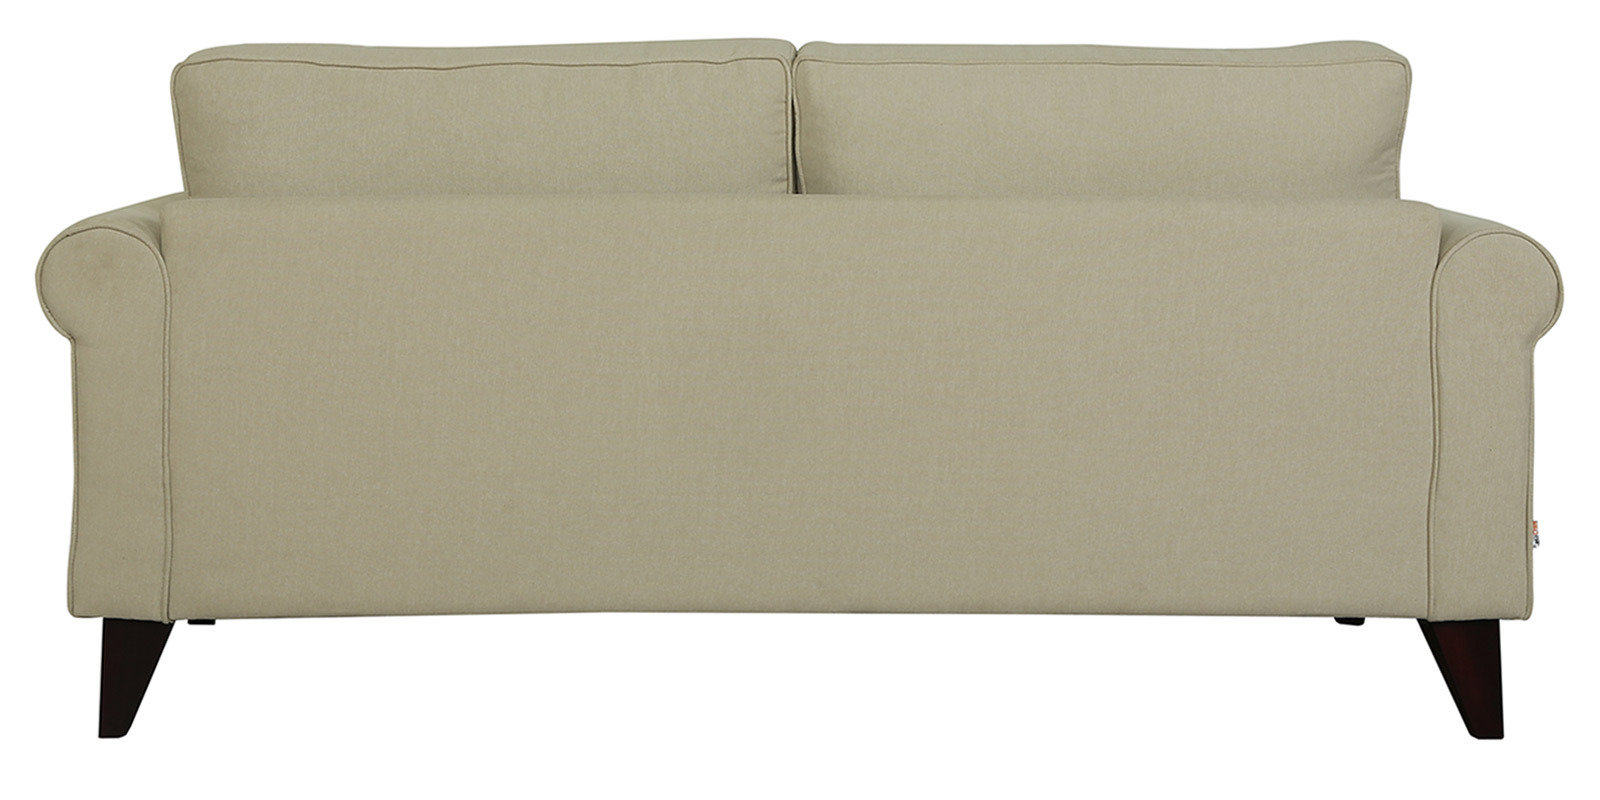Fuego Three Seater Sofa in Beige Colour by CasaCraft: (20, 22, 1570, 779)
